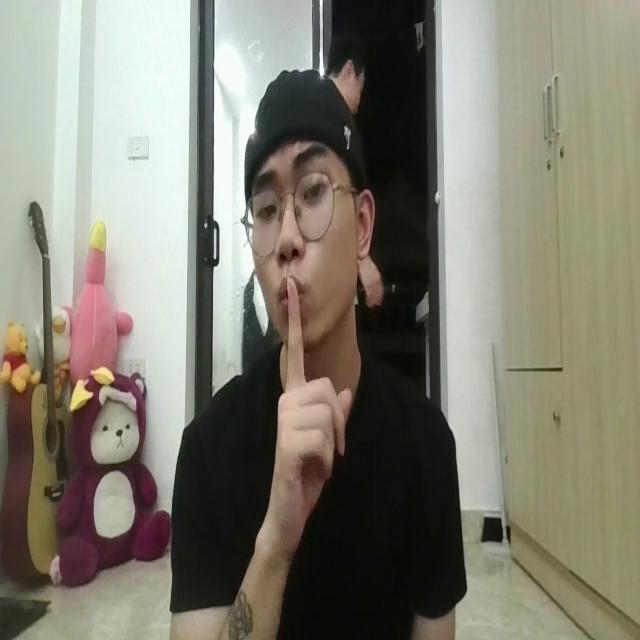extra_person: (329, 35, 370, 120)
student: (160, 64, 458, 640)
